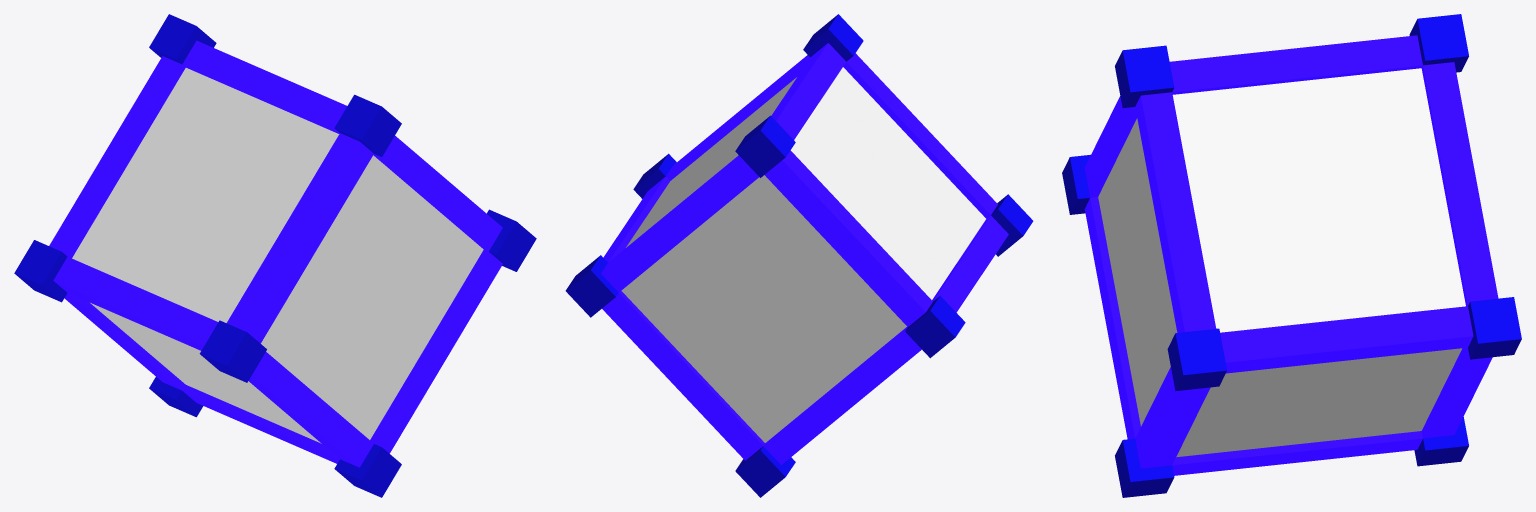
Rendered from CUDN_Item_White.fbx.
3 views of the same model, side by side, from view 1: azimuth 30°, elevation 25°; view 2: azimuth 150°, elevation 25°; view 3: azimuth 270°, elevation 25° (orthographic). The views are drawn at different scales.
Parts seen in each view (by area): view 1: Item_white; view 2: Item_white; view 3: Item_white.
Boxes of the visible parts, x1=… form: Item_white: x1=14, y1=14, x2=536, y2=497; Item_white: x1=565, y1=14, x2=1033, y2=497; Item_white: x1=1062, y1=14, x2=1521, y2=497.
Bounding box in the file's own units: 105 × 91.64 × 85.31.
